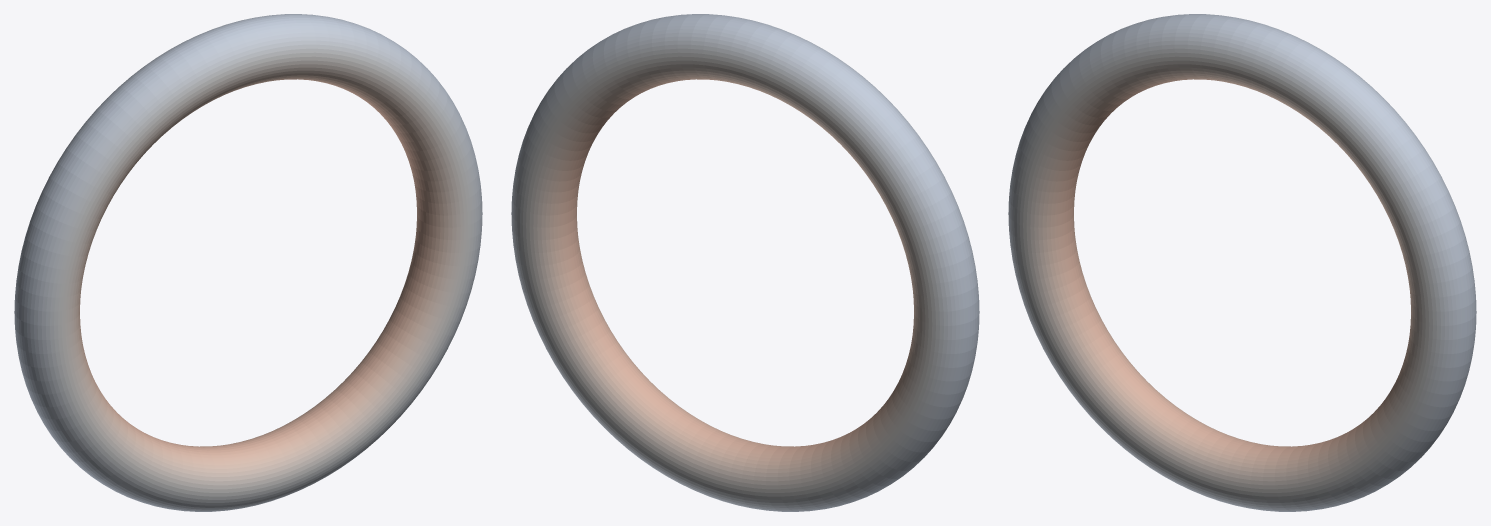
3 views of the same model, side by side, from view 1: azimuth 30°, elevation 25°; view 2: azimuth 150°, elevation 25°; view 3: azimuth 330°, elevation 25° (orthographic).
Parts seen in each view (by area): view 1: world; view 2: world; view 3: world.
Part boxes in pixels (bbox=[...]): world: bbox=[14, 14, 482, 511]; world: bbox=[511, 14, 979, 511]; world: bbox=[1008, 14, 1476, 511].
Bounding box in the file's own units: 33.47 × 33.47 × 4.13.
